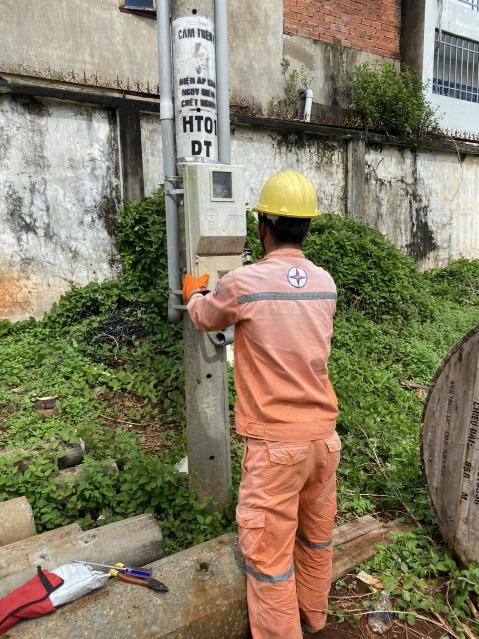gloves: (171, 260, 212, 306)
helmet: (243, 168, 329, 231)
